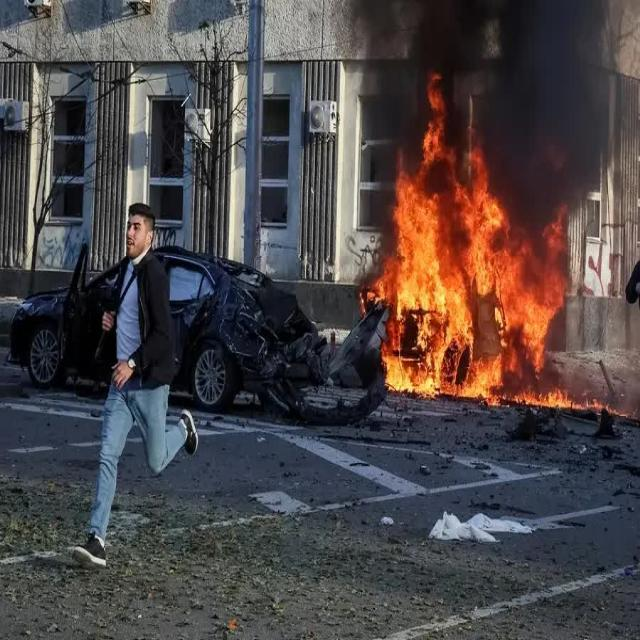Fire: (362, 74, 576, 406)
Smoke: (343, 0, 618, 228)
